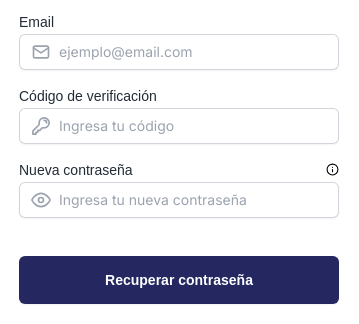
Test: Form Component › should show an alert when form is submitted with invalid data
Click the button "Recuperar contraseña": (179, 280) [19, 256, 339, 304]
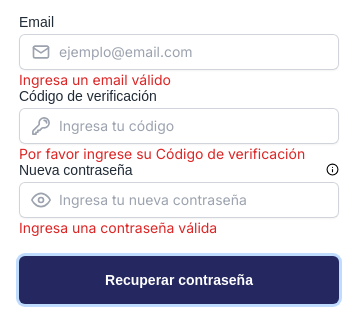
Check: the text "Ingresa un email válido" is shown, box [19, 71, 171, 88]
Check: the text "Por favor ingrese su Código de verificación" is shown, box [19, 144, 339, 164]
Check: the text "Ingresa una contraseña válida" is shown, box [19, 219, 217, 236]
